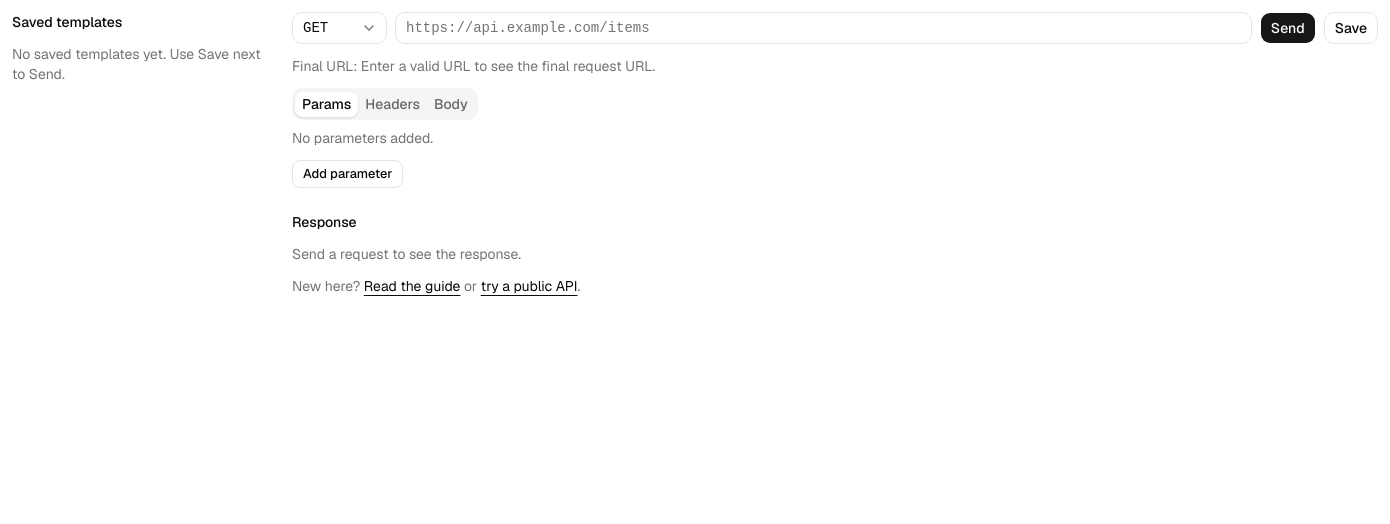
Body tab (FR-01) › content is kept when the type is switched to None and back
Click the tab "Body".
click(451, 104)  # box [427, 92, 475, 116]
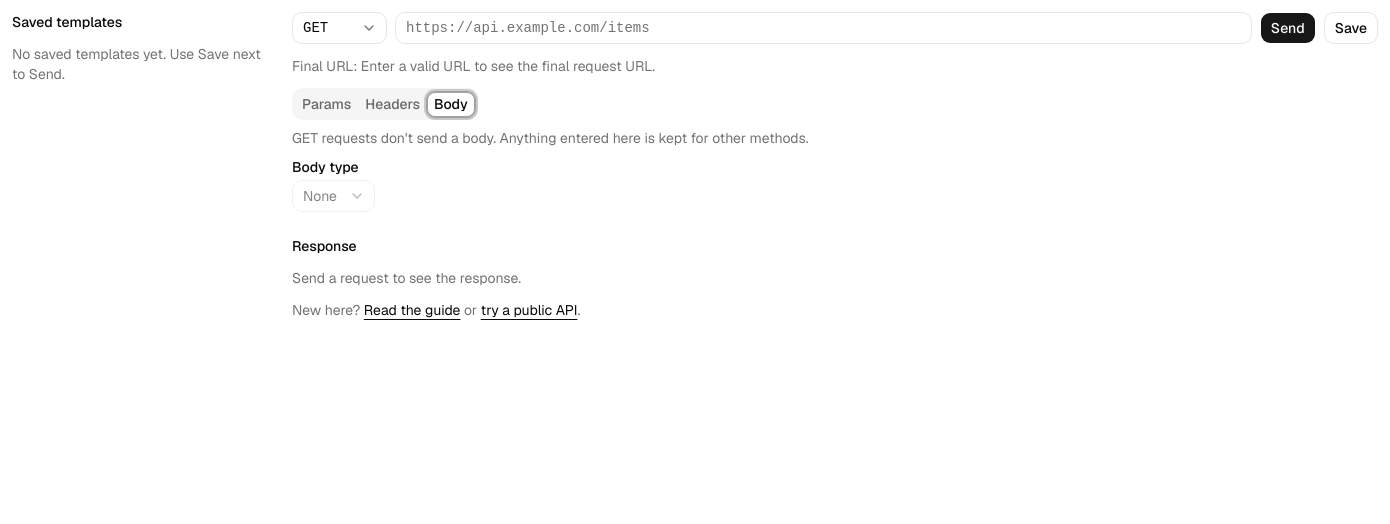
Select "POST" in the dropdown named "Method" at coordinates (340, 28), box [292, 12, 387, 44]
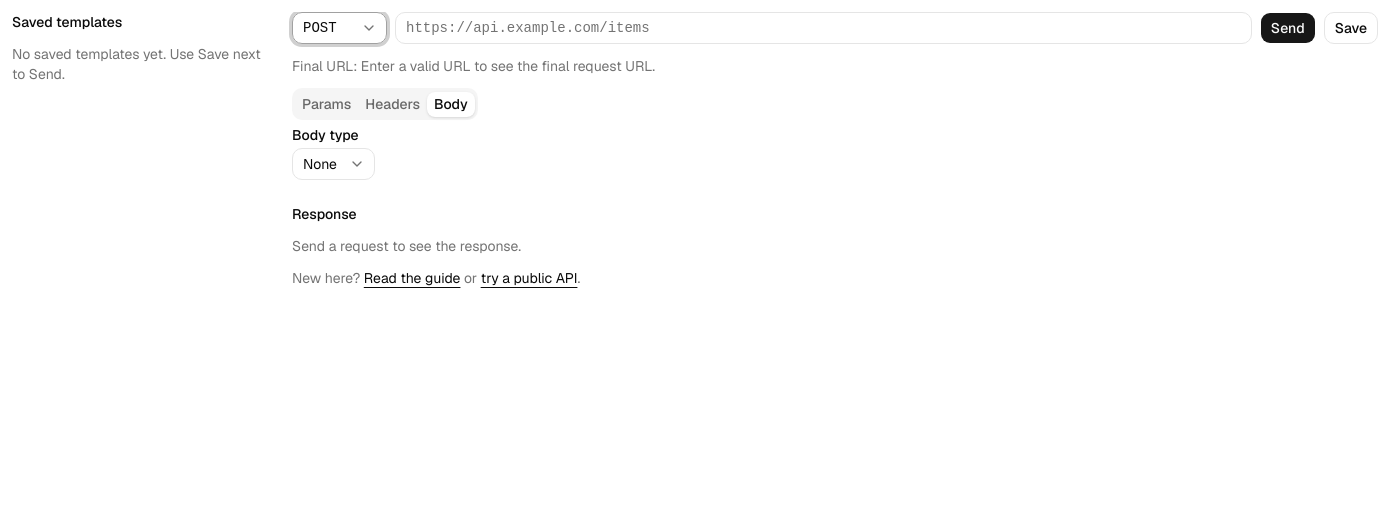
Select "Text" in the dropdown labelled "Body type" at coordinates (334, 164), box [292, 148, 375, 180]
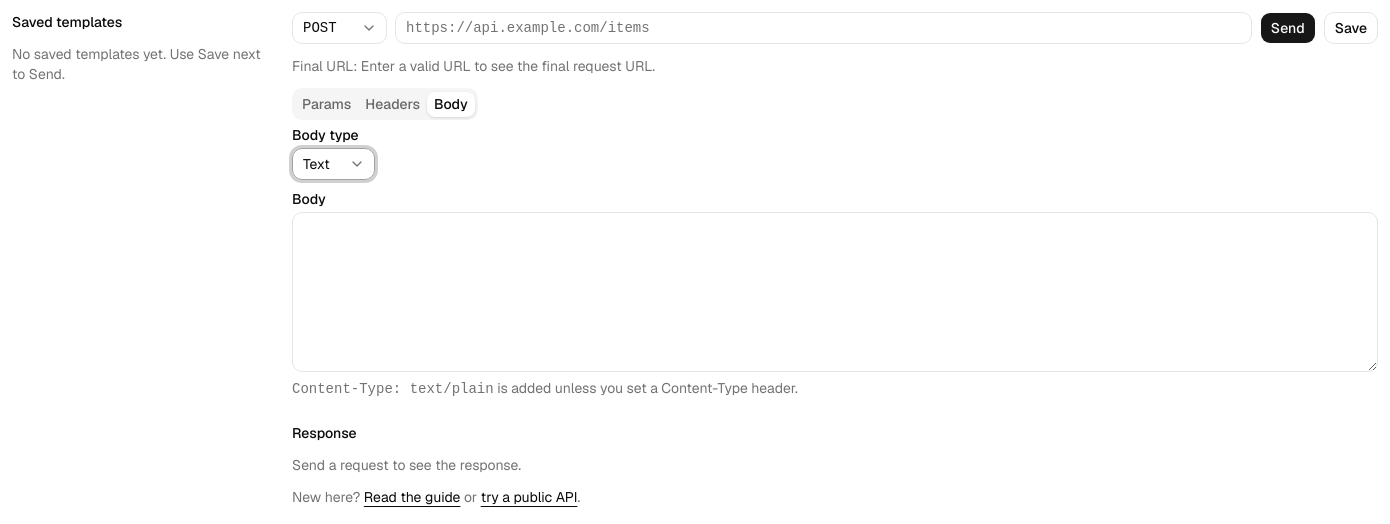
Type "kept" into the text box labelled "Body".
click(835, 292); type("kept")  # box [292, 212, 1378, 372]
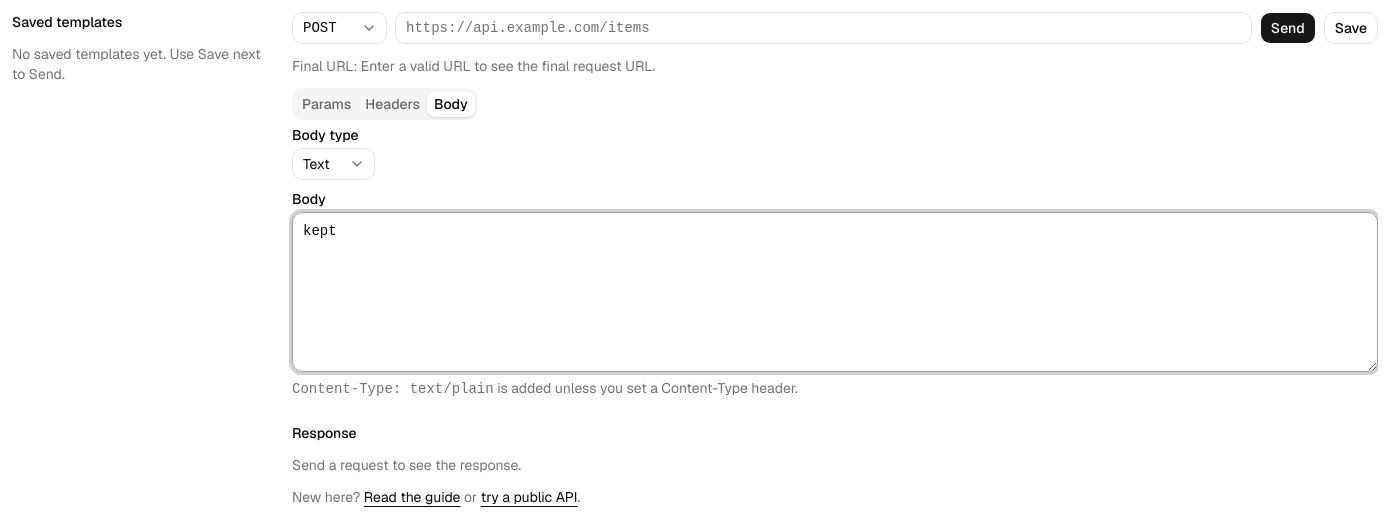
Select "None" in the dropdown labelled "Body type" at coordinates (334, 164), box [292, 148, 375, 180]
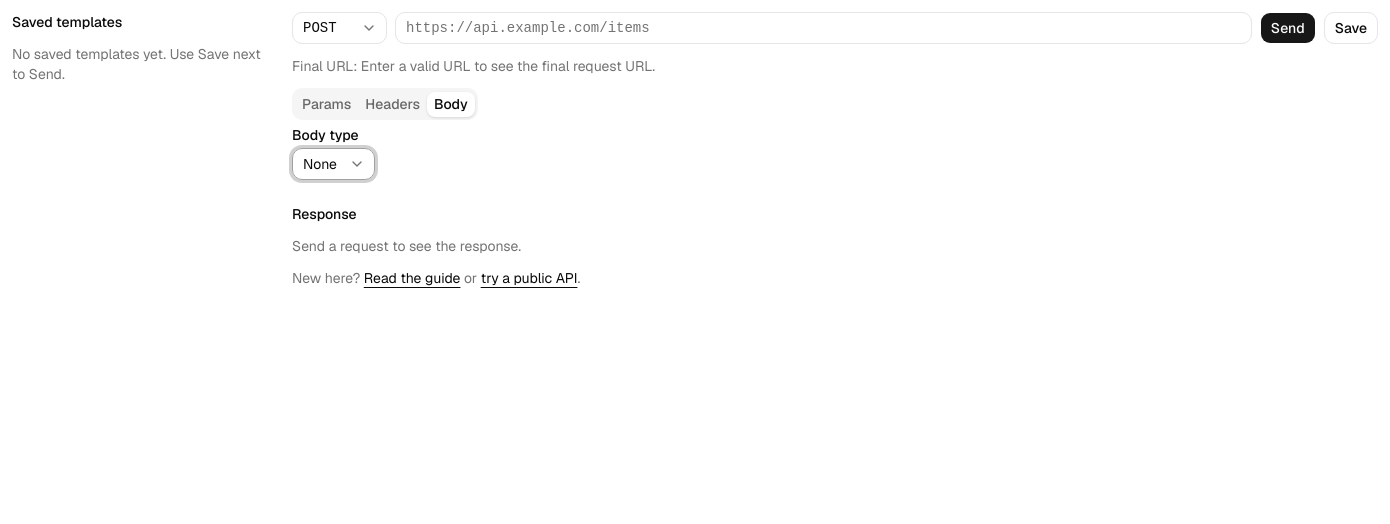
Select "Text" in the dropdown labelled "Body type" at coordinates (334, 164), box [292, 148, 375, 180]
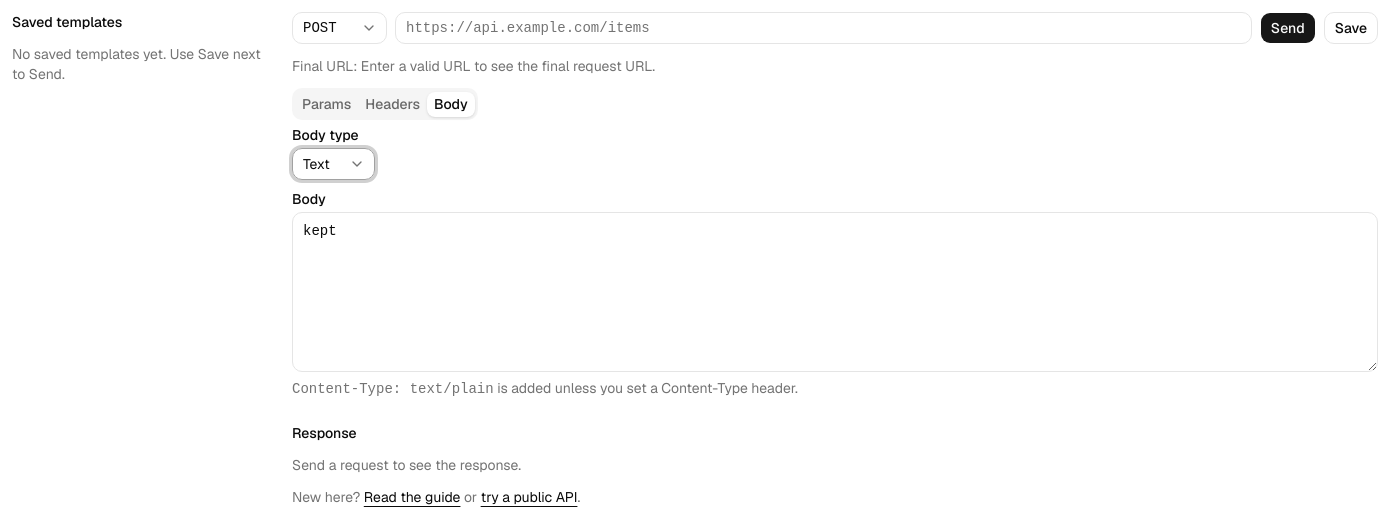
Now the text box labelled "Body" holds "kept", box [292, 212, 1378, 372]
